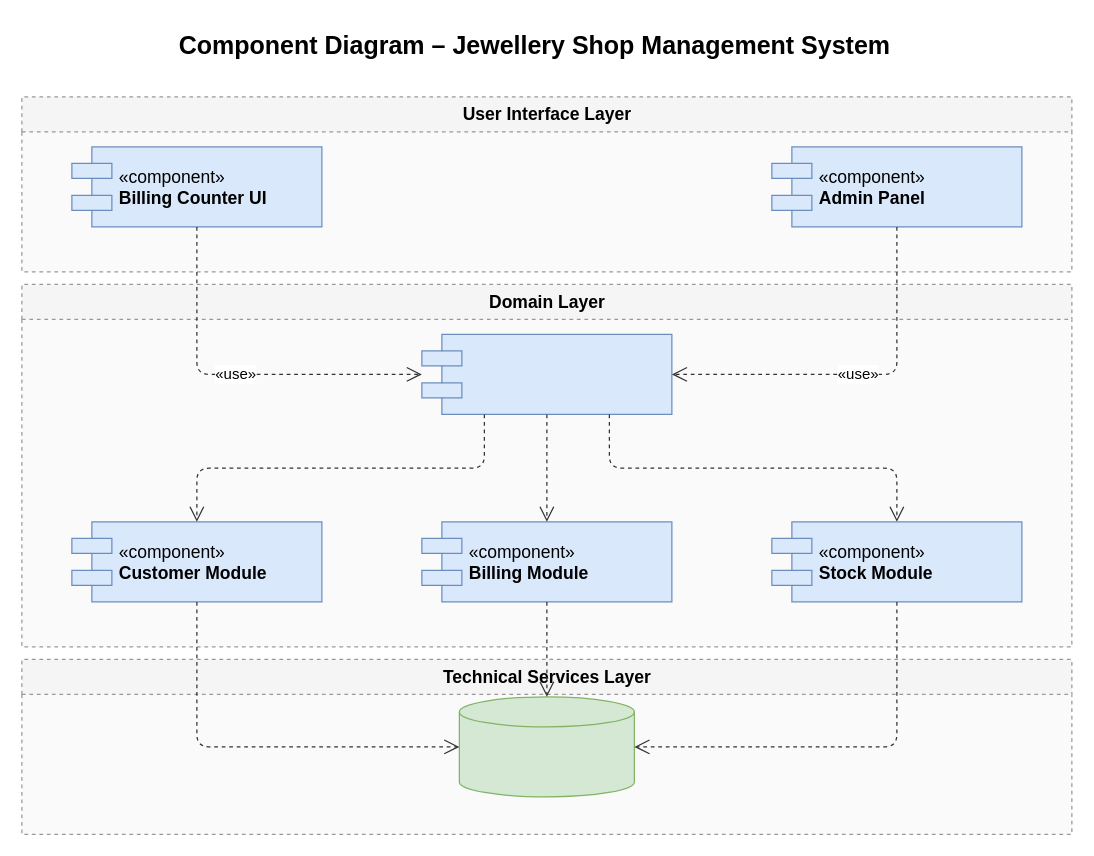
Image size: 1094x856. Some labels were removed from this diagram. The centre of each missing label's shape, as x and y in pixels:
"Shop DB" belongs at point 546,746.
"«component» Jewellery Shop System" belongs at point 546,373.
